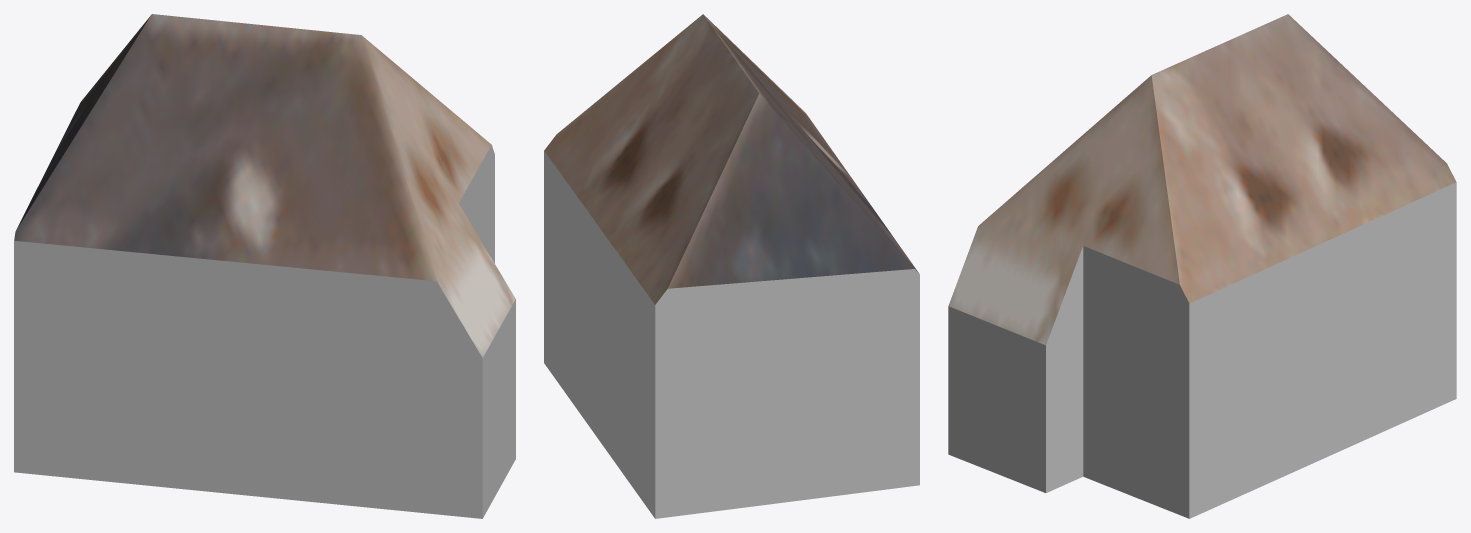
The model's file is DEBW_0010007Txcw.gltf.
The picture shows the model from 3 angles, left to right: view 1: azimuth 30°, elevation 25°; view 2: azimuth 150°, elevation 25°; view 3: azimuth 270°, elevation 25°; orthographic projection. The views are drawn at different scales.
Visible parts, largest first — view 1: Z_UP; view 2: Z_UP; view 3: Z_UP.
Boxes of the visible parts, x1=… form: Z_UP: x1=14, y1=14, x2=515, y2=518; Z_UP: x1=544, y1=14, x2=919, y2=518; Z_UP: x1=948, y1=14, x2=1456, y2=518.
Bounding box in the file's own units: 15.36 × 13.34 × 16.4.
Materials: 2 (1 with a texture image).
